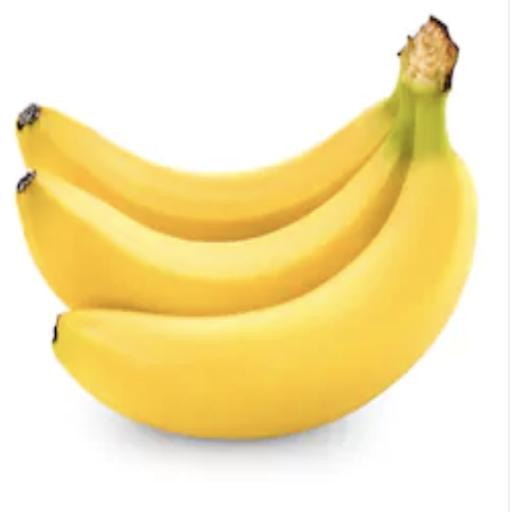banana: (53, 20, 477, 438), (17, 90, 412, 315), (17, 90, 398, 240)
